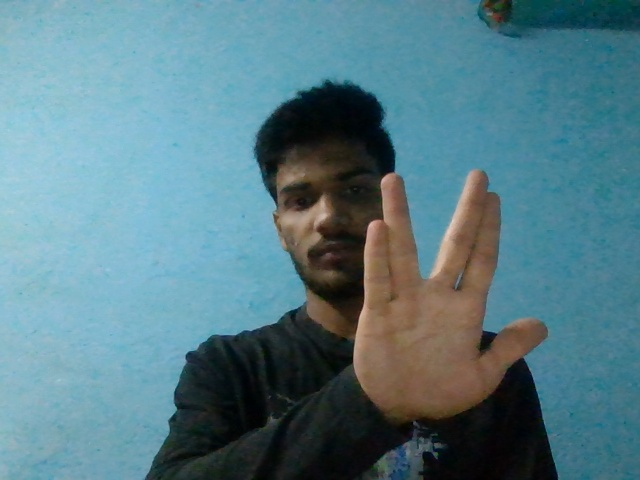Live Long: (353, 168, 550, 419)
